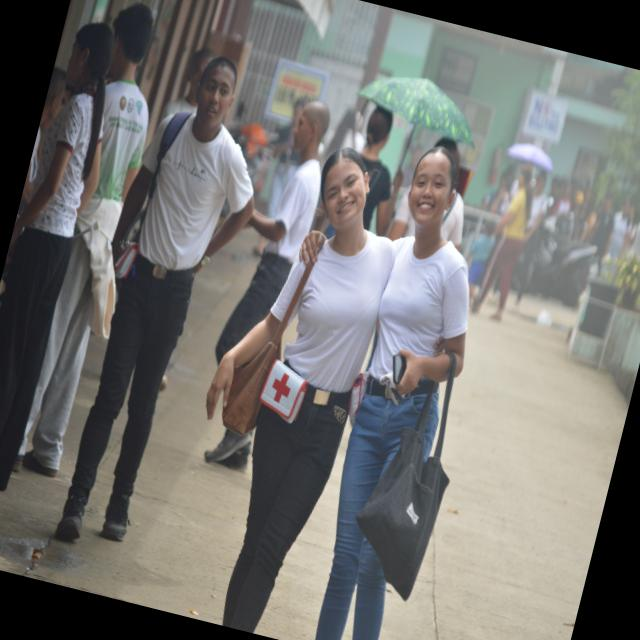person: (57, 58, 253, 541), (206, 149, 393, 632), (0, 24, 114, 491), (216, 102, 330, 363), (14, 236, 94, 476), (473, 170, 533, 320), (360, 107, 403, 235), (267, 98, 307, 219), (162, 48, 214, 118), (468, 222, 495, 306), (441, 193, 464, 248)
